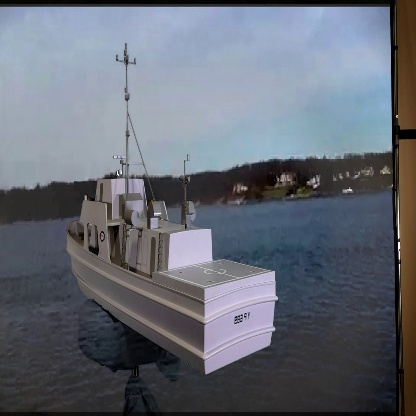YP689: (52, 46, 284, 374)
